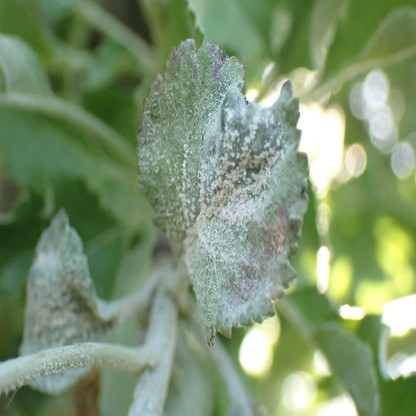powder: (138, 37, 310, 346), (20, 207, 128, 396)
